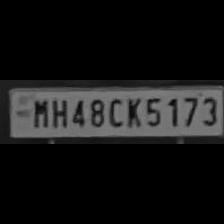1: (162, 94, 180, 128)
3: (198, 94, 218, 128)
4: (68, 96, 86, 128)
5: (142, 94, 162, 128)
7: (179, 94, 199, 128)
8: (86, 96, 106, 128)
C: (105, 95, 124, 127)
H: (48, 96, 68, 128)
K: (122, 96, 142, 128)
M: (28, 96, 48, 128)
